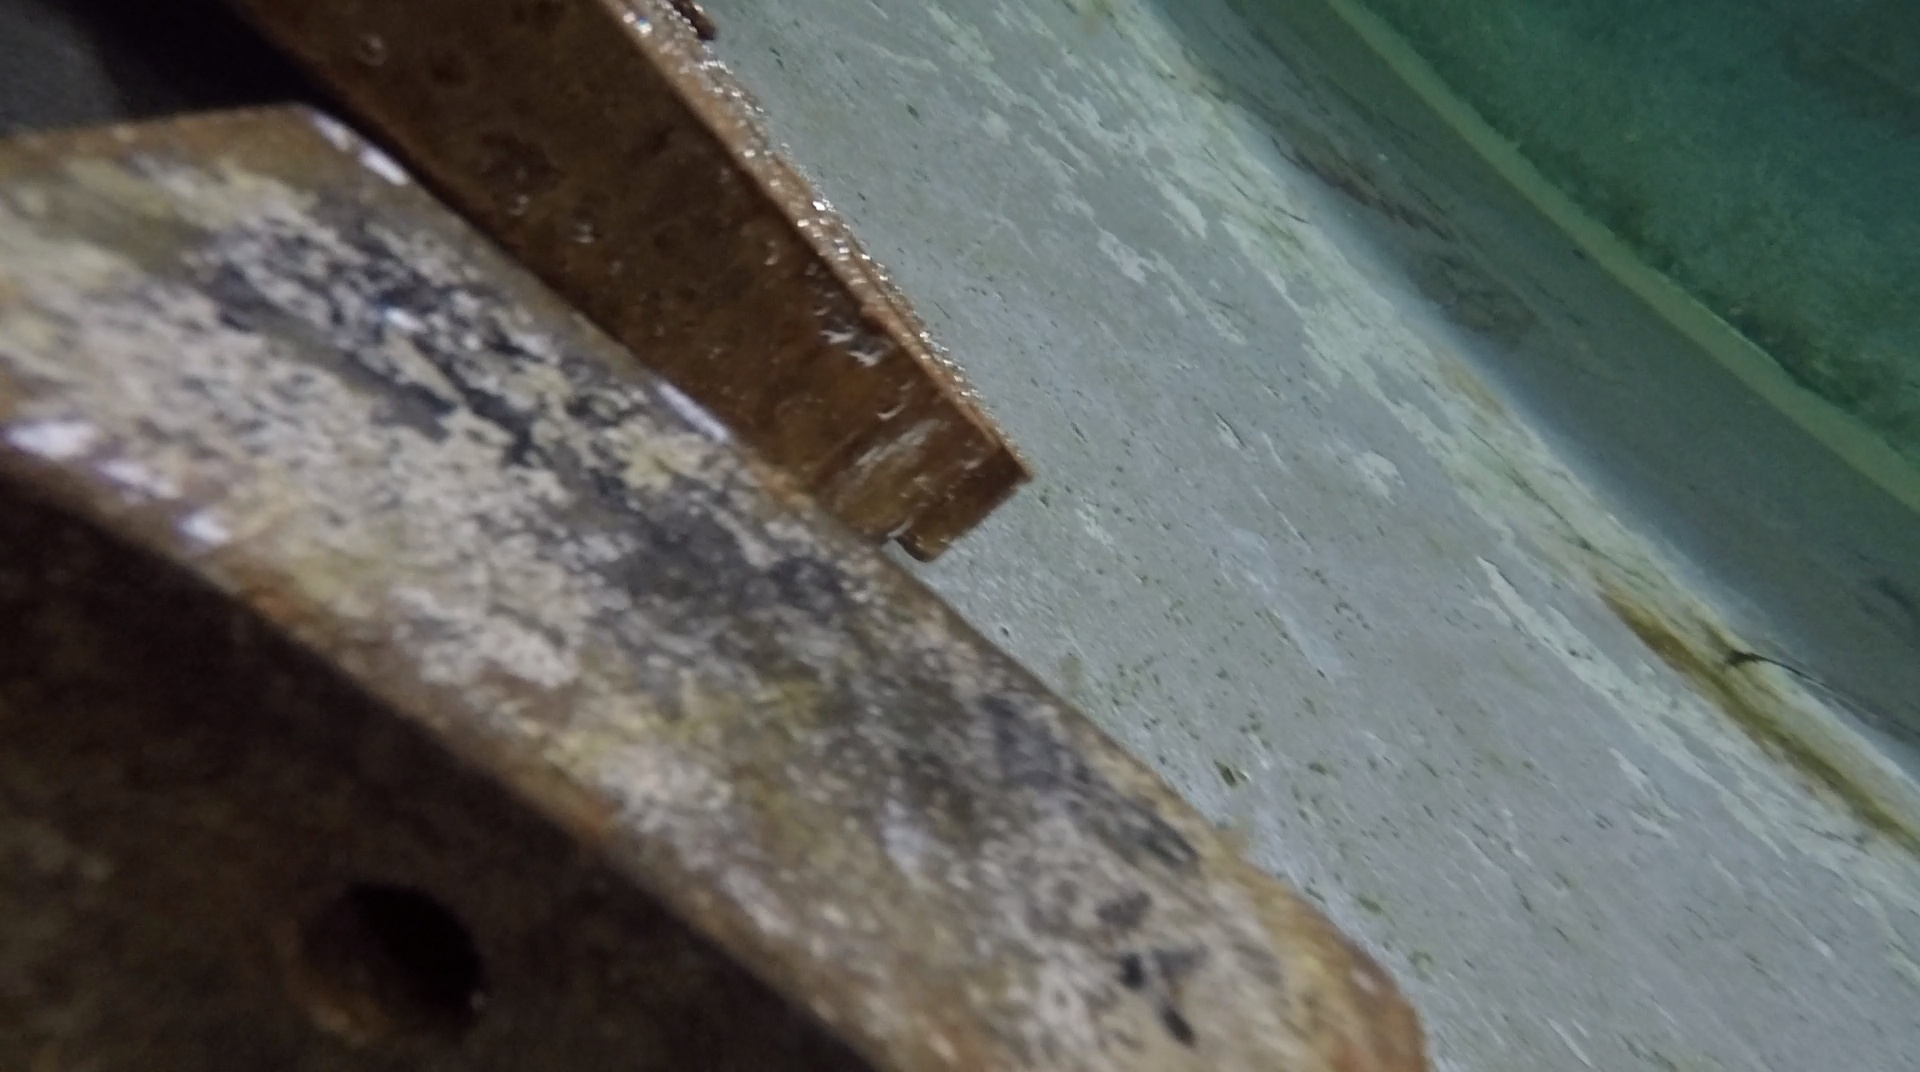flange: (222, 1, 1036, 556)
led_block: (4, 92, 1427, 1068)
